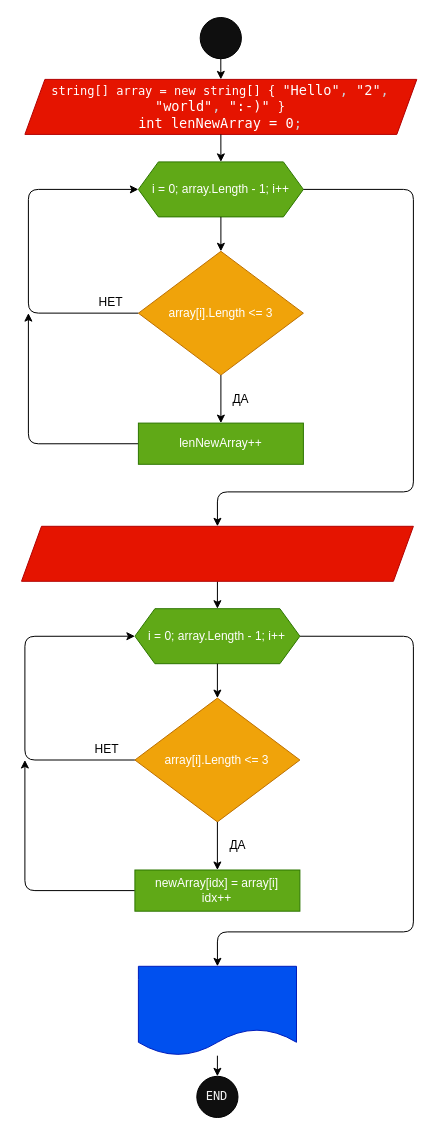
The diagram is 439 pixels wide and 1135 high, and some of its shapes have lost their labels. Here are the shapes that lost their labels. From the top down, the box of each, then its label:
(199, 16, 241, 59): START
(20, 525, 413, 581): string[] newArray = new string[lenNewArray] int idx = 0;
(137, 965, 296, 1056): PrintArray(array) Console.Write("→ ") PrintArray(newArray)
